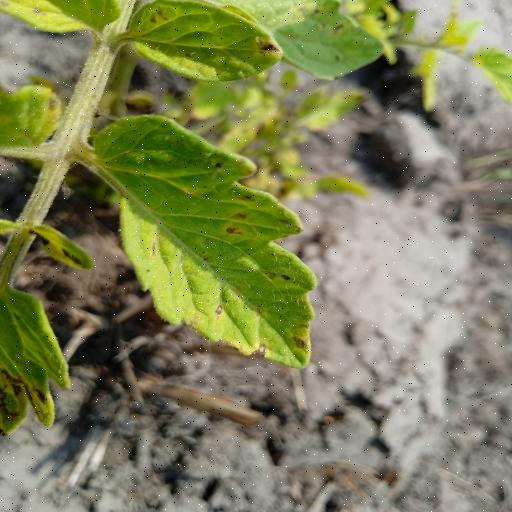Tomato_Brown_Spots: (82, 112, 320, 370), (119, 0, 286, 88)
